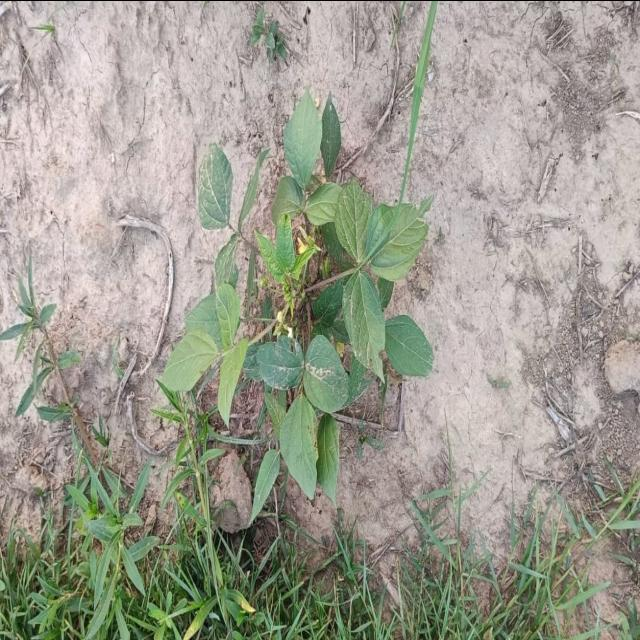plant: (162, 89, 434, 513)
